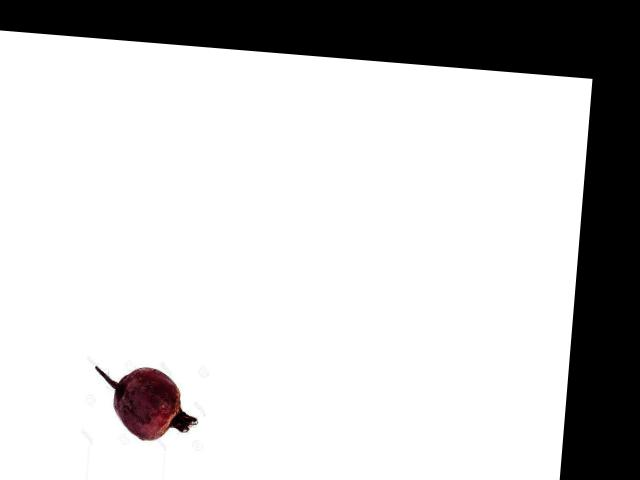beet: (91, 363, 201, 443)
